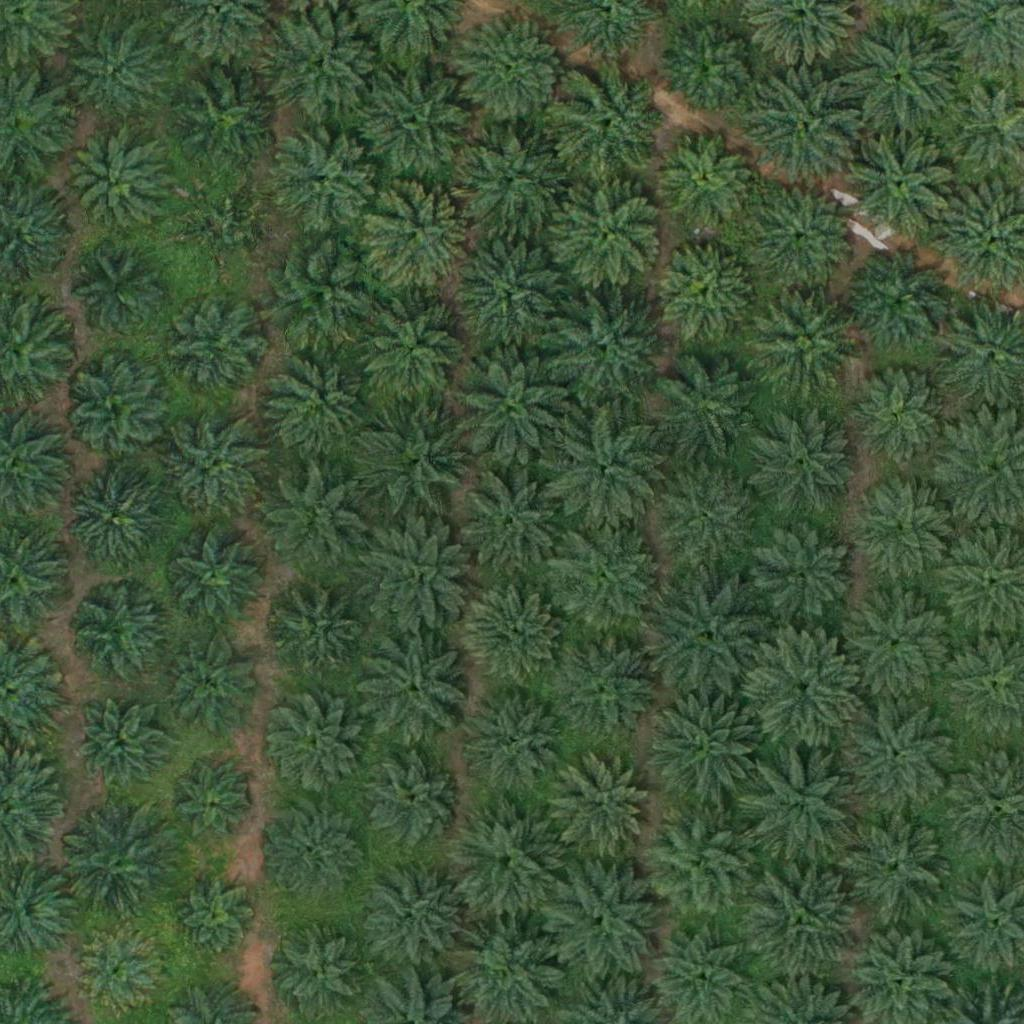Kelapa_Sawit: (456, 13, 569, 127), (554, 66, 667, 180), (551, 177, 664, 291), (652, 349, 765, 463), (641, 805, 754, 919), (746, 863, 859, 977), (166, 62, 279, 175), (264, 244, 377, 357), (452, 126, 565, 239), (844, 18, 957, 131), (845, 123, 958, 236), (748, 632, 861, 745), (745, 744, 858, 857), (649, 462, 762, 575), (654, 581, 767, 694), (647, 693, 760, 806), (549, 293, 662, 406), (551, 415, 664, 528), (356, 517, 469, 630), (356, 633, 469, 746), (354, 745, 467, 858), (355, 858, 468, 971), (746, 284, 858, 398), (745, 408, 857, 522), (265, 6, 377, 119), (266, 124, 378, 237), (361, 65, 473, 178), (362, 180, 474, 293), (459, 233, 571, 346), (746, 72, 858, 185), (744, 182, 856, 295), (843, 590, 955, 703), (847, 700, 959, 813), (552, 521, 664, 634), (550, 634, 662, 747), (457, 352, 569, 465), (454, 463, 566, 576), (357, 296, 469, 409), (360, 411, 472, 524), (162, 411, 274, 524), (64, 811, 176, 924), (447, 804, 559, 917), (549, 864, 661, 977), (841, 809, 953, 922), (60, 22, 160, 123), (69, 142, 169, 243), (68, 239, 168, 340), (663, 15, 763, 116), (847, 250, 947, 351), (553, 753, 653, 854), (461, 585, 561, 686), (466, 691, 566, 792), (264, 355, 364, 456), (261, 468, 361, 569), (263, 581, 363, 682), (171, 294, 271, 395), (164, 528, 264, 629), (66, 358, 166, 459), (61, 463, 161, 564), (67, 577, 167, 678), (661, 130, 761, 230), (657, 242, 757, 342), (848, 369, 948, 469), (853, 483, 953, 583), (756, 527, 856, 627), (264, 697, 364, 797), (264, 801, 364, 901), (162, 633, 262, 733), (73, 930, 161, 1018), (174, 870, 262, 958), (187, 186, 274, 275), (75, 699, 162, 787), (174, 765, 249, 841)
